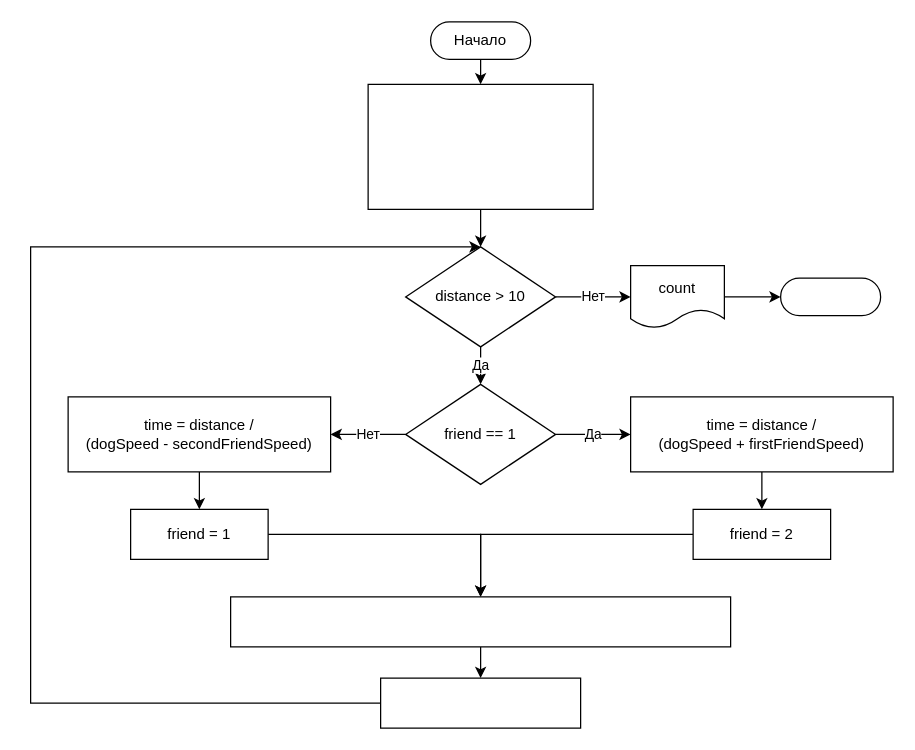
Some shapes in this 915 by 750 pixel diagram are drawn without their labels. Here are the shapes that lost their labels. From the top down, the box of each, then its label:
(367, 83, 593, 209): count, disctance, firstFriendSpeed, secondFriendSpeed, dogSpeed friend = 2,
(779, 277, 881, 316): Конец
(229, 596, 731, 647): distance = distance - (firstFriendSpeed - secondFriendSpeed) * time
(379, 677, 581, 728): count = count + 1
